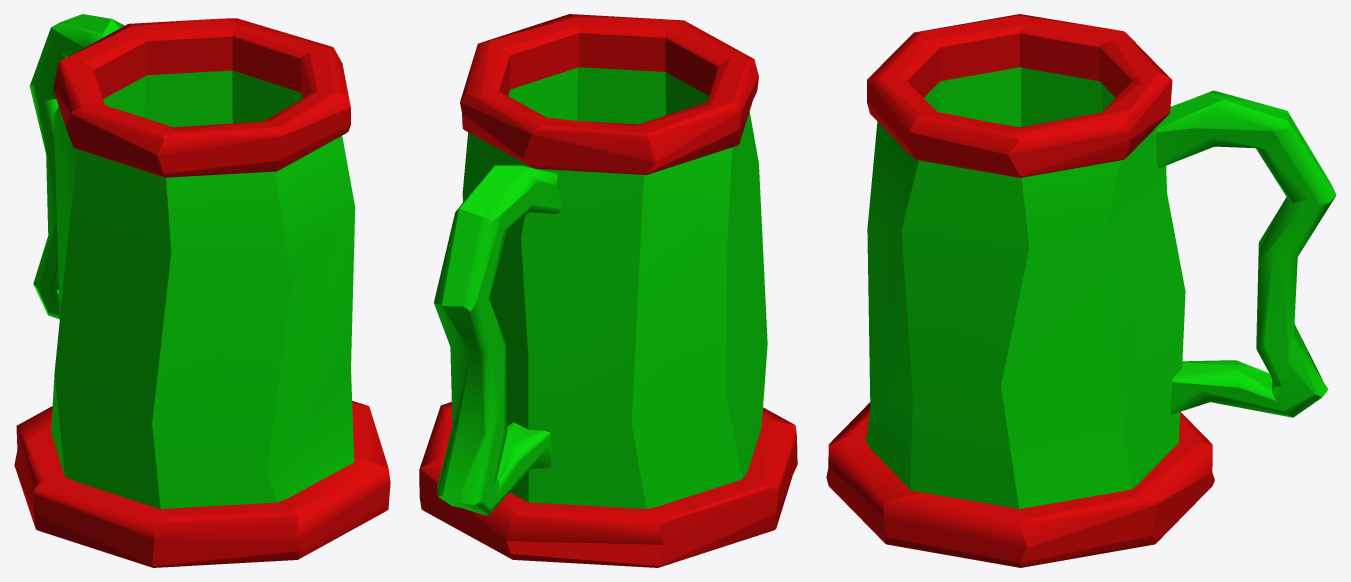
The model's file is Env_Tankard.fbx.
The picture shows the model from 3 angles, left to right: view 1: azimuth 30°, elevation 25°; view 2: azimuth 150°, elevation 25°; view 3: azimuth 270°, elevation 25°; orthographic projection.
Parts seen in each view (by area): view 1: Env_Tankard; view 2: Env_Tankard; view 3: Env_Tankard.
Part boxes in pixels (x1,y1,x2,y2): Env_Tankard: (14,14,390,567); Env_Tankard: (419,14,797,567); Env_Tankard: (826,14,1336,567).
Size of the model in its own units: 0.4012 by 0.4703 by 0.5267.
